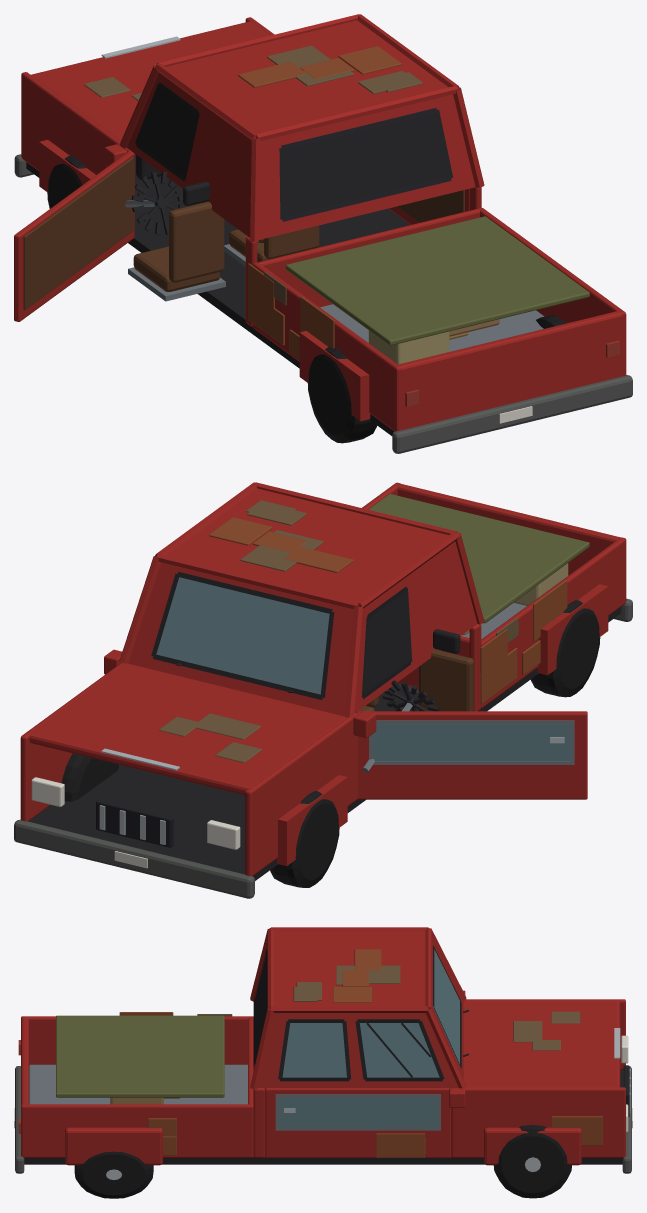
Rendered from car_jam_pickup.glb.
The picture shows the model from 3 angles, top to bottom: view 1: azimuth 30°, elevation 25°; view 2: azimuth 150°, elevation 25°; view 3: azimuth 270°, elevation 25°; orthographic projection. The views are drawn at different scales.
Parts seen in each view (by area): view 1: car_jam_pickup; view 2: car_jam_pickup; view 3: car_jam_pickup.
Boxes of the visible parts, box(x1,y1,x2,y2) form: car_jam_pickup: box(14, 14, 632, 453); car_jam_pickup: box(14, 482, 632, 898); car_jam_pickup: box(14, 927, 632, 1198).
Size of what is drawn, in the model's own units: 3.34 by 1.75 by 5.32.
2 materials, 2 textured.
